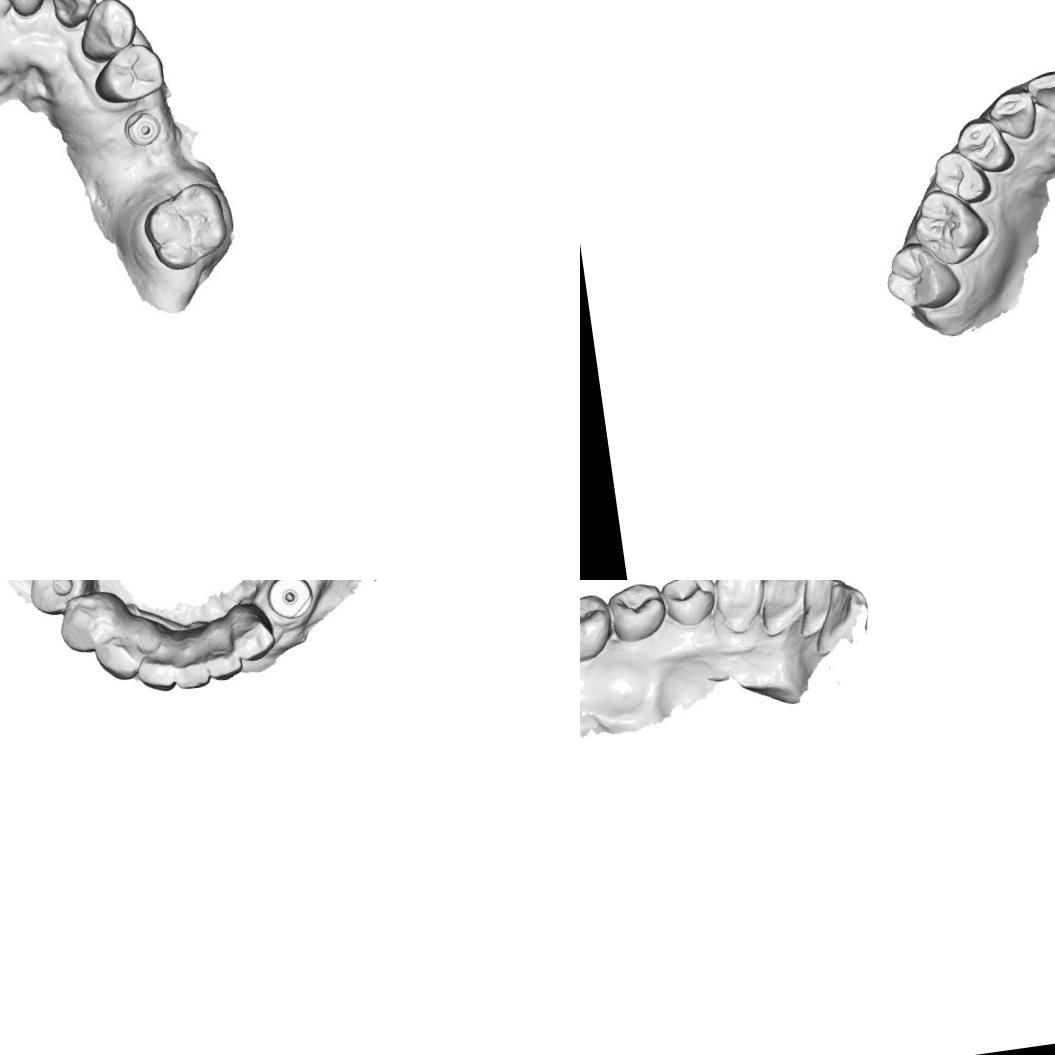canine: (73, 0, 139, 67), (92, 623, 150, 683), (986, 84, 1040, 144), (711, 580, 768, 634)
implant: (120, 104, 168, 156), (264, 580, 318, 622)
incisor: (807, 580, 875, 662), (753, 580, 814, 631), (791, 580, 846, 634), (132, 643, 180, 696), (168, 640, 215, 694), (232, 614, 278, 664), (202, 634, 246, 684), (1025, 68, 1055, 118), (0, 0, 61, 20), (44, 0, 95, 21)
molar: (136, 176, 242, 277), (908, 184, 991, 270), (880, 237, 962, 315), (580, 589, 616, 663)
premolar: (90, 41, 170, 106), (54, 588, 126, 656), (952, 114, 1017, 178), (604, 580, 667, 646), (930, 146, 993, 209), (658, 580, 718, 630), (23, 580, 99, 618)
